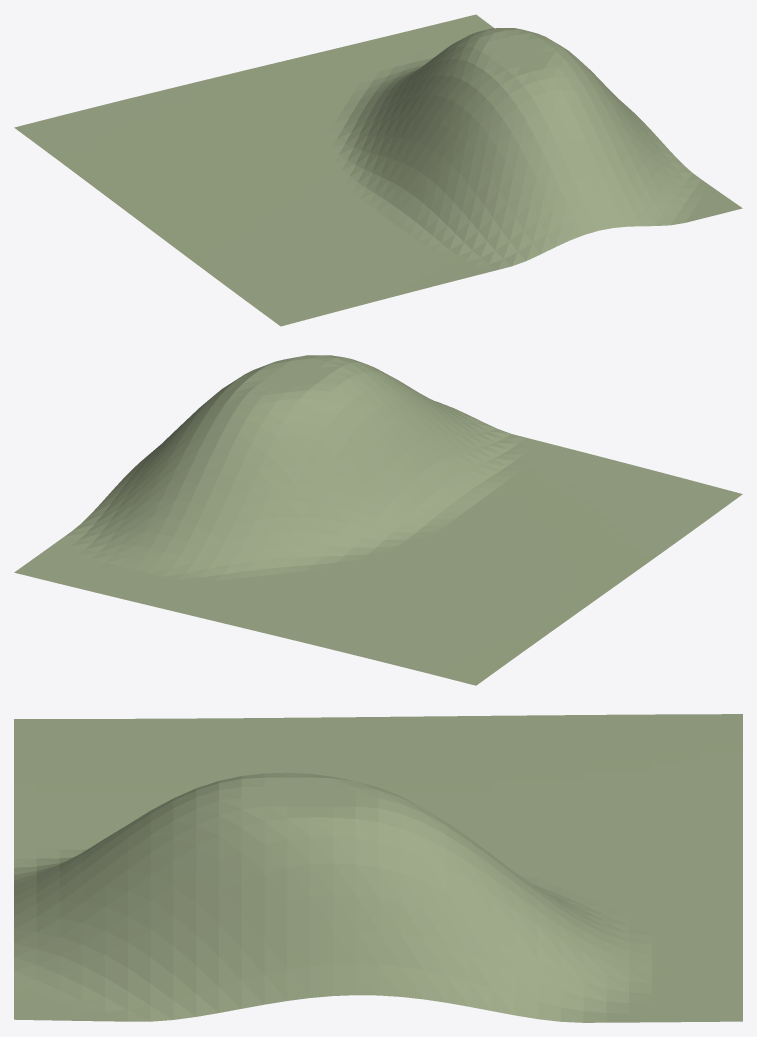
The model's file is expanse-20-6.glb.
3 views of the same model, one above another, from view 1: azimuth 30°, elevation 25°; view 2: azimuth 150°, elevation 25°; view 3: azimuth 270°, elevation 25° (orthographic). The views are drawn at different scales.
Parts seen in each view (by area): view 1: expanse-20-6; view 2: expanse-20-6; view 3: expanse-20-6.
Part boxes in pixels (x1=…): expanse-20-6: x1=14, y1=14, x2=742, y2=326; expanse-20-6: x1=14, y1=355, x2=742, y2=685; expanse-20-6: x1=14, y1=714, x2=742, y2=1022.
Size of the model in its own units: 256 by 59.43 by 256.
